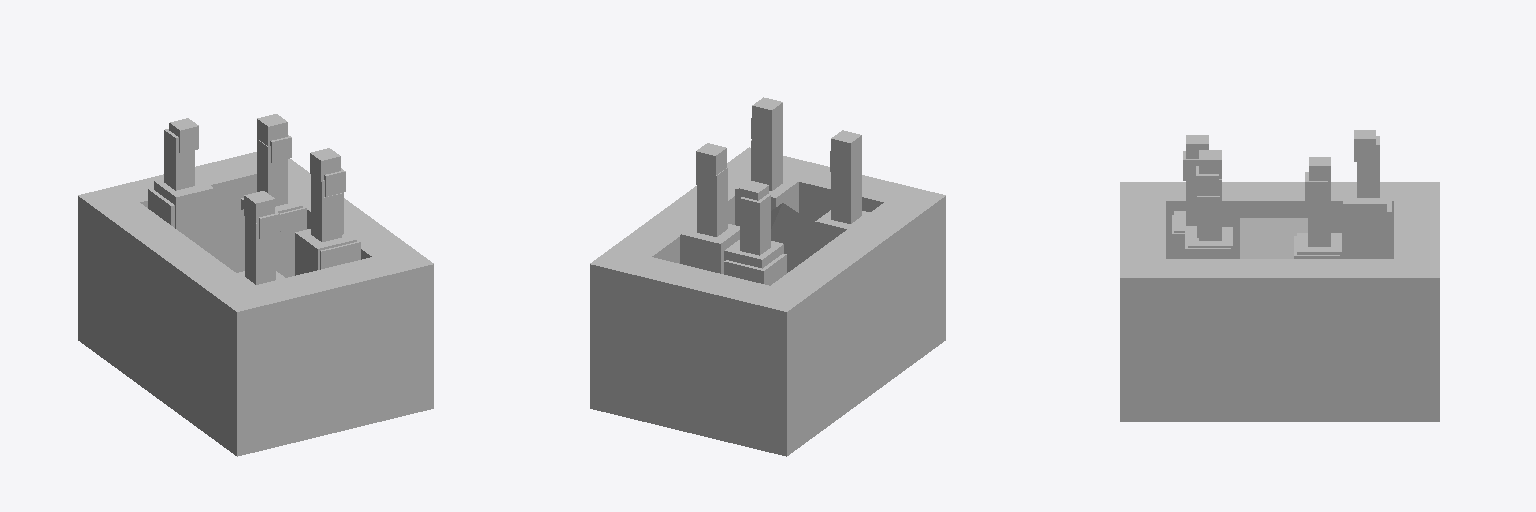
Rendered from cooler.obj.
3 renders of one model, left to right at view 1: azimuth 30°, elevation 25°; view 2: azimuth 150°, elevation 25°; view 3: azimuth 270°, elevation 25°, orthographic.
Parts seen in each view (by area): view 1: cooler, Mirinda, Brahma, Heineken, Coca; view 2: cooler, Heineken, Mirinda, Brahma, Coca; view 3: cooler, Mirinda, Brahma, Heineken, Coca.
Boxes of the visible parts, x1,y1,x2,y2 form: cooler: [78, 152, 433, 456]; Mirinda: [148, 118, 213, 241]; Brahma: [295, 148, 360, 275]; Heineken: [241, 114, 306, 262]; Coca: [237, 191, 284, 285]; cooler: [590, 147, 945, 456]; Heineken: [680, 143, 739, 273]; Mirinda: [724, 180, 786, 285]; Brahma: [735, 97, 798, 225]; Coca: [814, 130, 869, 237]; cooler: [1120, 182, 1439, 421]; Mirinda: [1343, 130, 1391, 258]; Brahma: [1185, 150, 1232, 258]; Heineken: [1294, 157, 1341, 258]; Coca: [1172, 135, 1208, 258].
Bounding box in the file's own units: 0.625 × 0.7159 × 0.875.